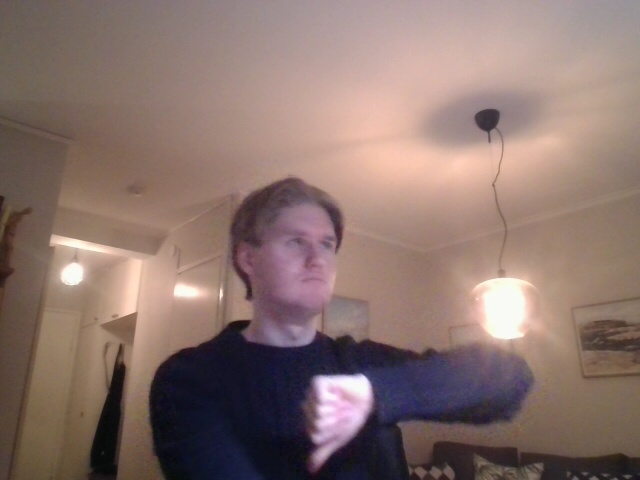ThumbsDown: (301, 374, 374, 474)
